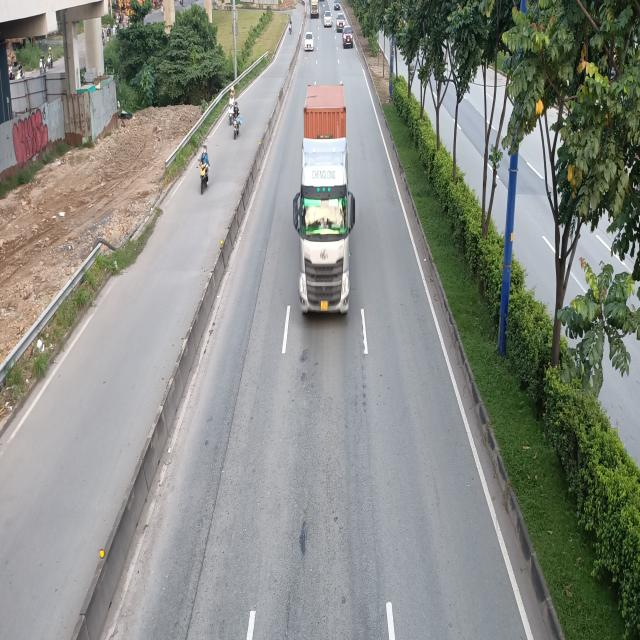car: (343, 26, 354, 49), (304, 30, 314, 50), (323, 10, 333, 28), (336, 11, 344, 32)
container: (294, 84, 357, 316), (309, 0, 319, 19)
